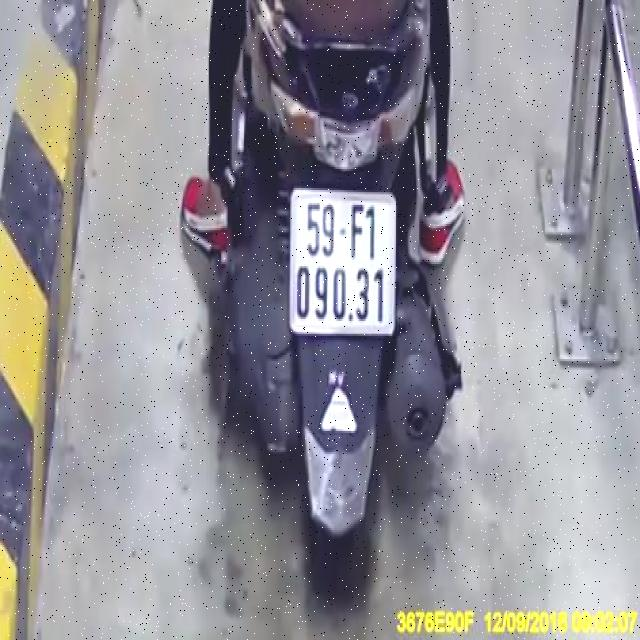0: (332, 266, 348, 322), (296, 264, 312, 318)
1: (365, 202, 377, 262), (373, 267, 385, 324)
3: (355, 267, 370, 323)
5: (306, 201, 320, 257)
9: (321, 203, 336, 259), (314, 265, 328, 322)
F: (349, 201, 365, 262)
